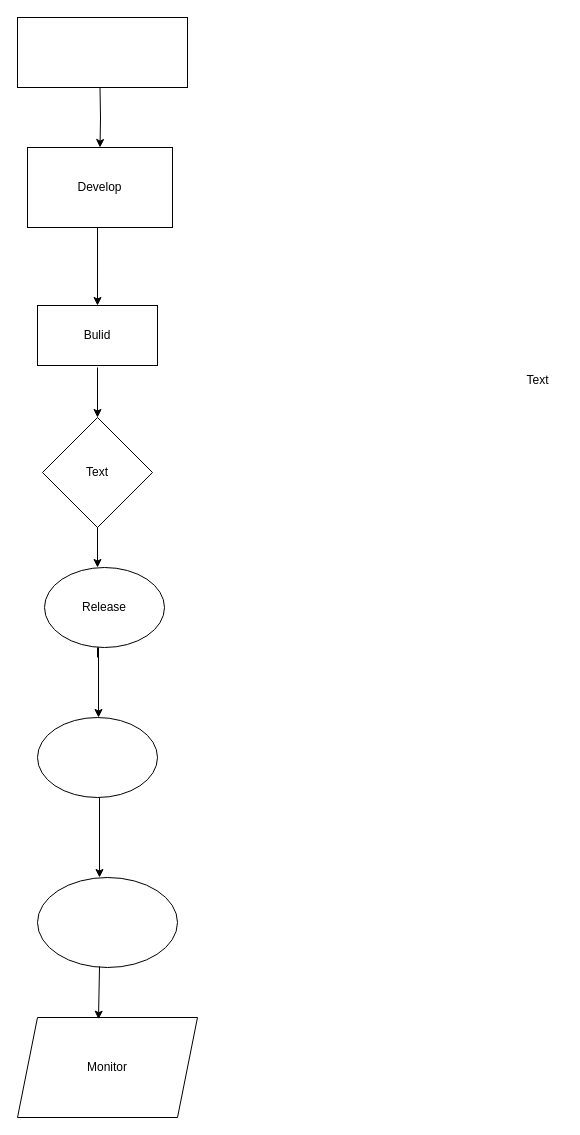
Some shapes in this 580 by 1135 pixel diagram are drawn without their labels. The shapes that lost their labels are listed below. From the top down, each one's centre as x and y in pixels, then its label:
point (102, 52): Plan
point (97, 757): Deploy
point (107, 922): Operate
